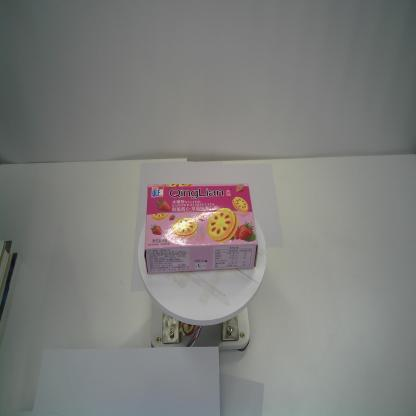Dessert: (143, 182, 259, 276)
